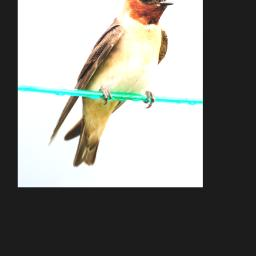Swallow: (47, 0, 175, 170)
